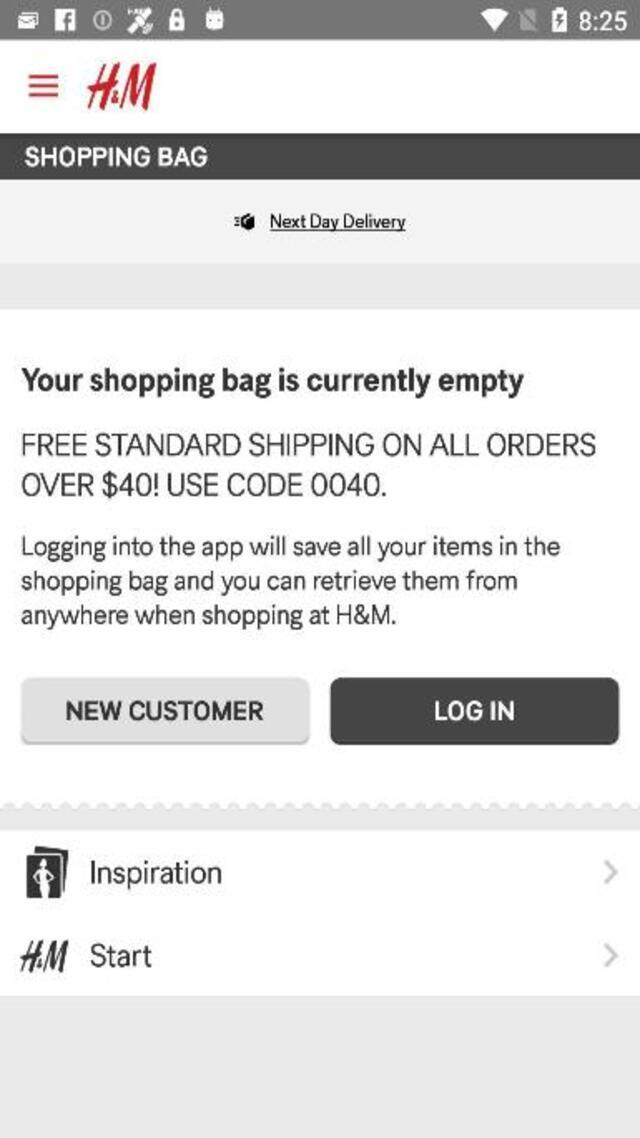Icon: (28, 74, 58, 97), (602, 942, 618, 967), (604, 859, 619, 884), (233, 214, 256, 230)
Image: (86, 63, 156, 111), (26, 845, 70, 898), (20, 938, 70, 972)
Text: (17, 431, 600, 460), (21, 367, 524, 398), (18, 535, 564, 561), (21, 568, 522, 596), (16, 467, 394, 501), (17, 602, 398, 632), (91, 860, 222, 890), (25, 146, 208, 167), (90, 942, 152, 967)
TextButton: (20, 679, 309, 744), (331, 679, 620, 744), (270, 214, 406, 232)
